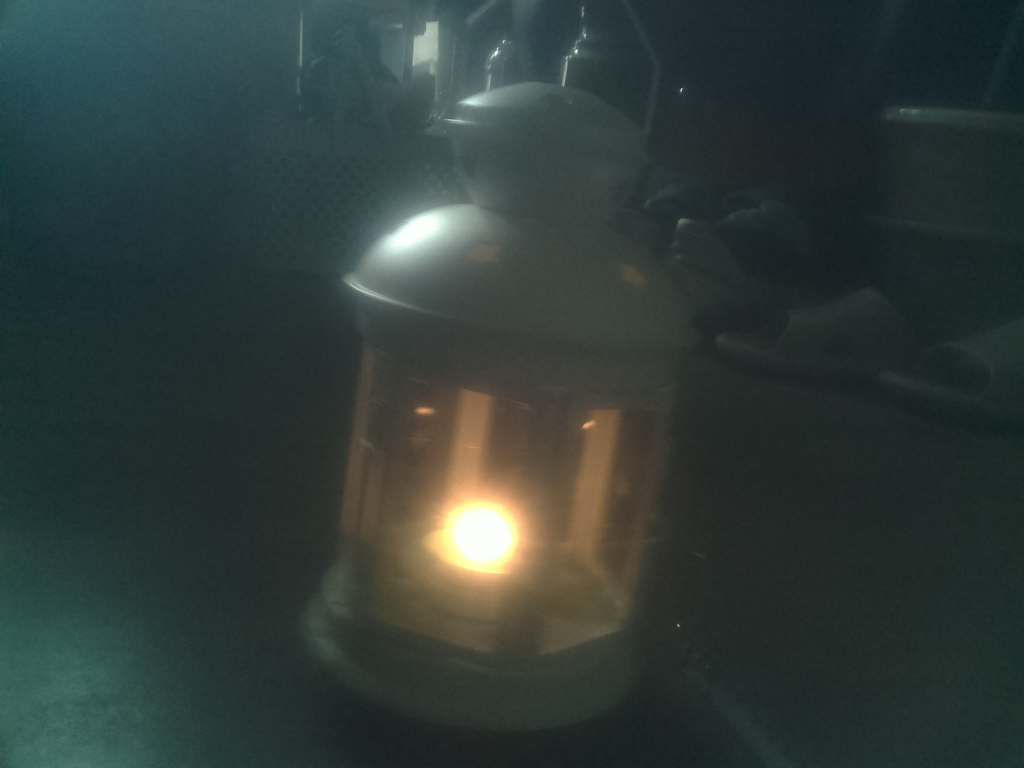fire: (420, 483, 533, 594)
